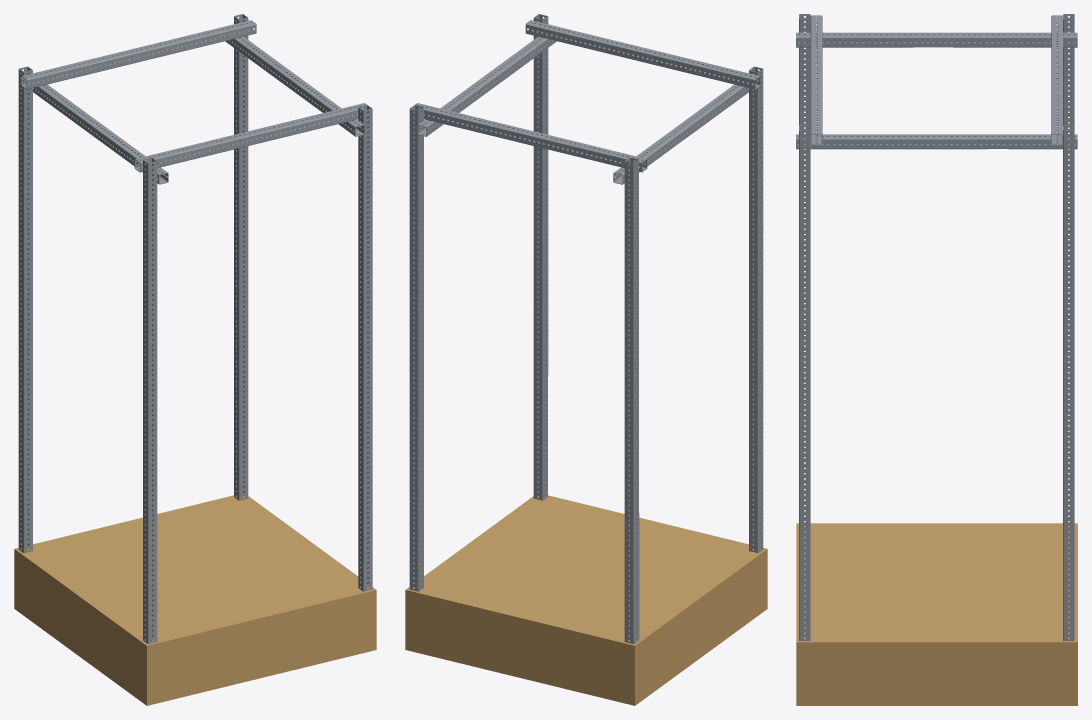
File: 4x4-opt.glb
3 renders of one model, left to right at view 1: azimuth 30°, elevation 25°; view 2: azimuth 150°, elevation 25°; view 3: azimuth 270°, elevation 25°, orthographic. The views are drawn at different scales.
Parts seen in each view (by area): view 1: module-base, module-steel; view 2: module-base, module-steel; view 3: module-base, module-steel.
Part boxes in pixels (x1,y1,x2,y2): module-base: (14, 490, 376, 705); module-steel: (18, 14, 372, 643); module-base: (405, 490, 767, 705); module-steel: (409, 14, 763, 643); module-base: (796, 523, 1077, 705); module-steel: (796, 14, 1077, 640).
Bounding box in the file's own units: 1.22 × 2.74 × 1.22.
